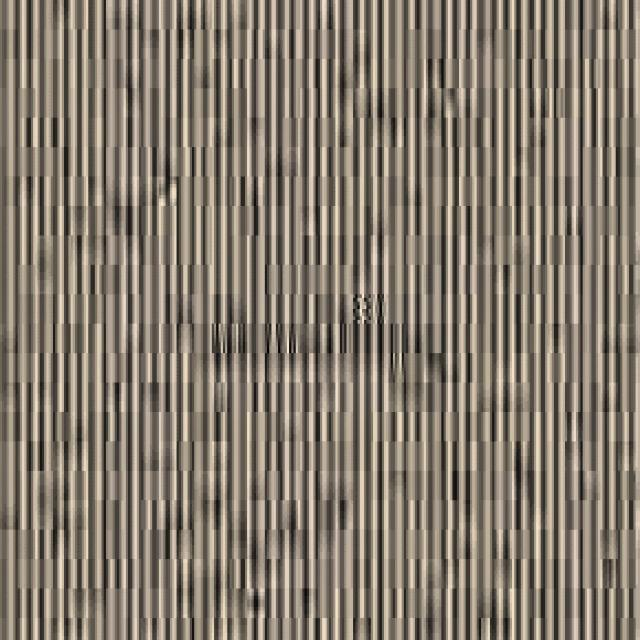cardboard: (0, 0, 638, 636)
